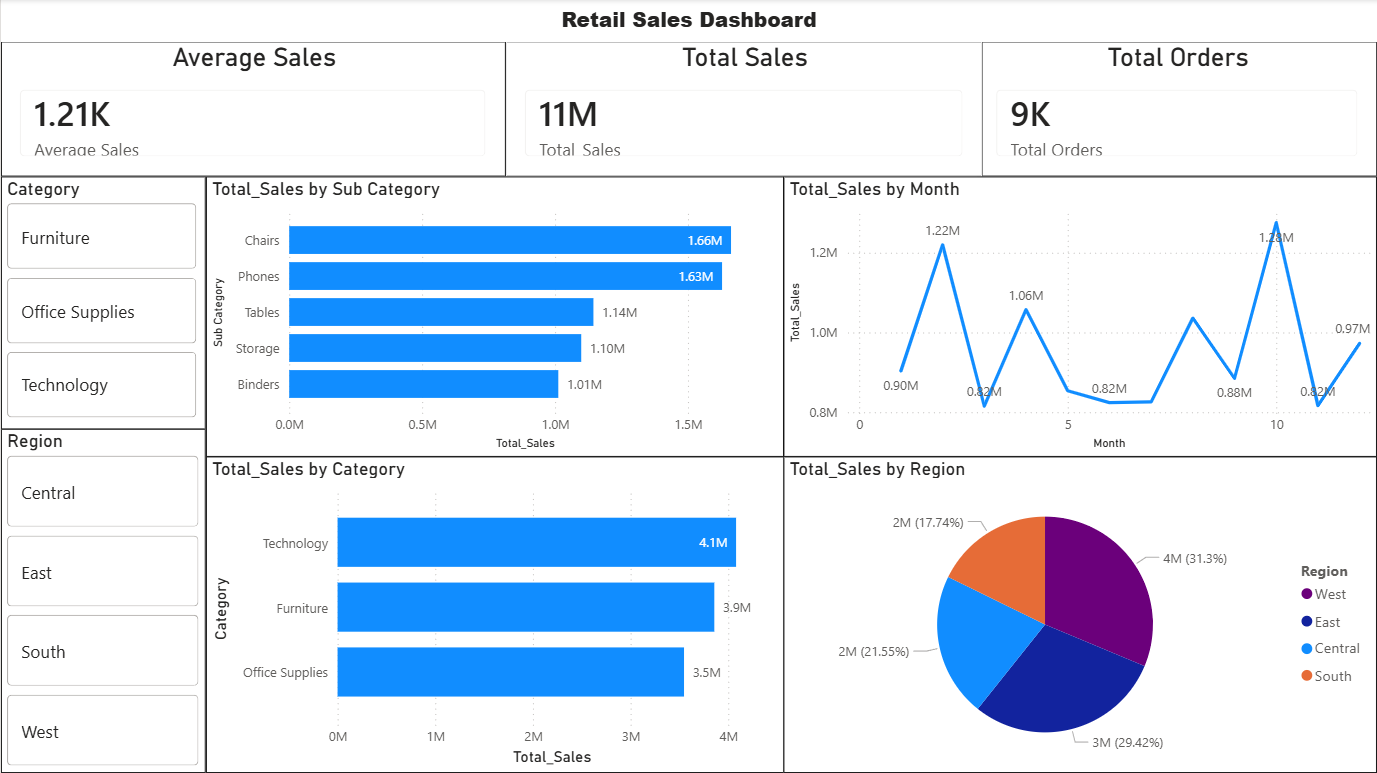

What the dashboard file says about the page in this screenshot:
{"tool":"powerbi","page":{"name":"Page 1","canvas":[1280,720],"ordinal":0},"visuals":[{"type":"cardVisual","title":"Average Sales","fields":{"Data":["cleaned_online_retail.Average Sales"]},"box":[0,40,469.8,125.6],"z":0},{"type":"cardVisual","title":"Total Orders","fields":{"Data":["cleaned_online_retail.Total Orders"]},"box":[908.1,40,372.1,125.6],"z":1000},{"type":"cardVisual","title":"Total Sales","fields":{"Data":["cleaned_online_retail.Total_Sales"]},"box":[469.8,40,443,125.6],"z":2000},{"type":"clusteredBarChart","fields":{"Category":["cleaned_online_retail.Category"],"Y":["cleaned_online_retail.Total_Sales"]},"box":[190.7,425.6,537.2,294.2],"z":3000},{"type":"pieChart","fields":{"Category":["cleaned_online_retail.Region"],"Y":["cleaned_online_retail.Total_Sales"]},"box":[727.9,425.6,552.3,294.2],"z":4000},{"type":"lineChart","fields":{"Category":["cleaned_online_retail.Month"],"Y":["cleaned_online_retail.Total_Sales"]},"box":[727.9,165.1,552.3,260.5],"z":5000},{"type":"clusteredBarChart","fields":{"Category":["cleaned_online_retail.Sub Category"],"Y":["cleaned_online_retail.Total_Sales"]},"box":[190.7,165.1,537.2,260.5],"z":5001},{"type":"advancedSlicerVisual","fields":{"Values":["cleaned_online_retail.Region"]},"box":[0,400,190.7,319.8],"z":5002},{"type":"advancedSlicerVisual","fields":{"Values":["cleaned_online_retail.Category"]},"box":[0,165.1,190.7,234.9],"z":5003},{"type":"textbox","box":[0,0,1280.2,40],"z":5004}]}

Visuals, with their boxes in screenshot pixels (x1, y1, x2, y2), scaled from the page's 1280x720 canvas onto the 1377x773 screenshot:
"Average Sales" cardVisual: l=0, t=43, r=505, b=178
"Total Orders" cardVisual: l=977, t=43, r=1376, b=178
"Total Sales" cardVisual: l=505, t=43, r=982, b=178
clusteredBarChart - cleaned_online_retail.Category x cleaned_online_retail.Total_Sales: l=205, t=457, r=783, b=772
pieChart - cleaned_online_retail.Region x cleaned_online_retail.Total_Sales: l=783, t=457, r=1376, b=772
lineChart - cleaned_online_retail.Month x cleaned_online_retail.Total_Sales: l=783, t=177, r=1376, b=457
clusteredBarChart - cleaned_online_retail.Sub Category x cleaned_online_retail.Total_Sales: l=205, t=177, r=783, b=457
advancedSlicerVisual - cleaned_online_retail.Region: l=0, t=429, r=205, b=772
advancedSlicerVisual - cleaned_online_retail.Category: l=0, t=177, r=205, b=429
textbox: l=0, t=0, r=1376, b=43
